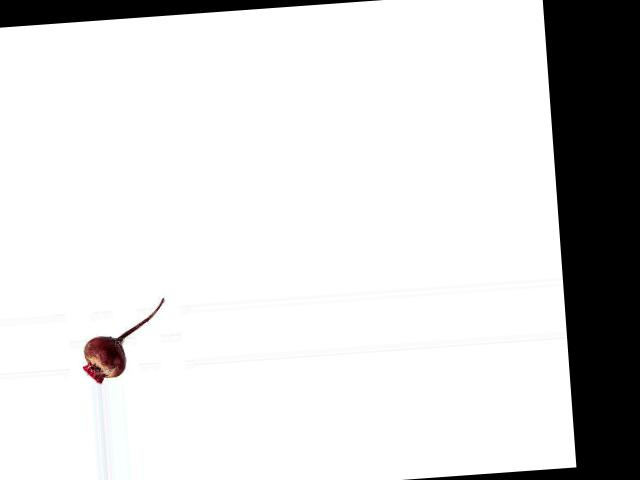beet: (79, 298, 170, 384)
